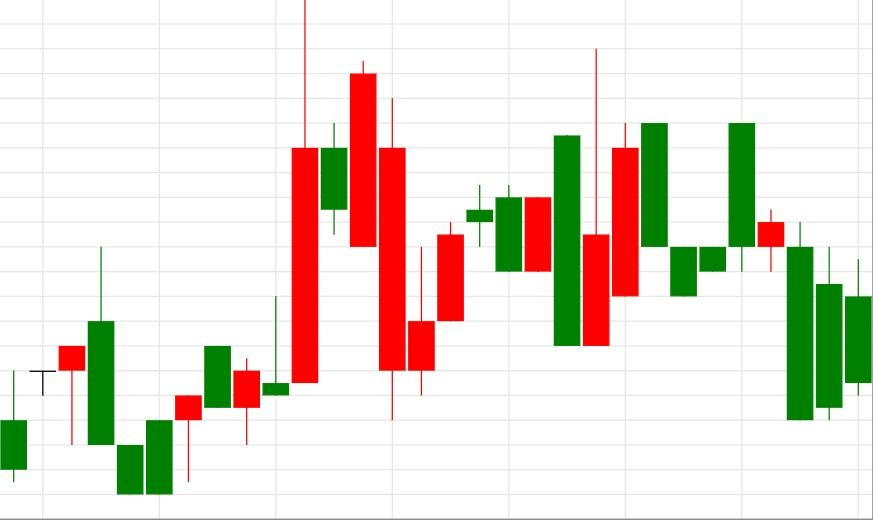bearish_engulfing_fall: (407, 135, 581, 395), (0, 247, 115, 482)
